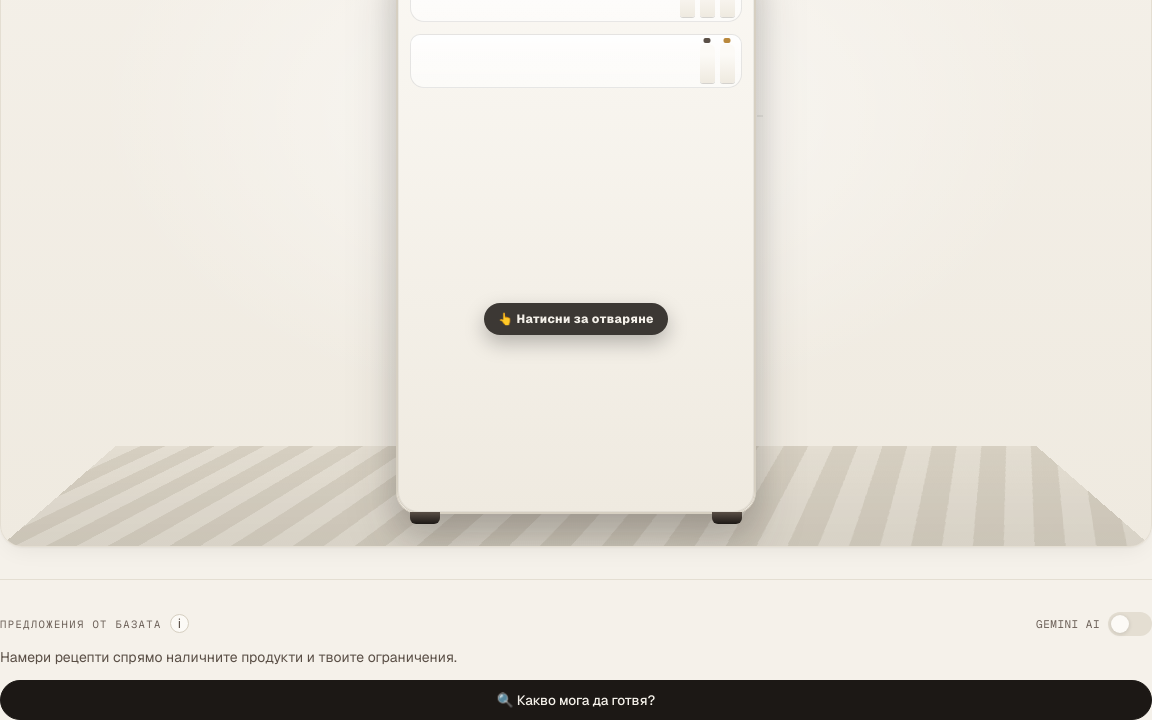
Test: FridgeScreen – Try different suggestions button › shows the button after Gemini search returns results
The image size is (1152, 720).
(page scrolled)
Click the checkbox at (1130, 624), box [1108, 612, 1151, 636]
(page scrolled)
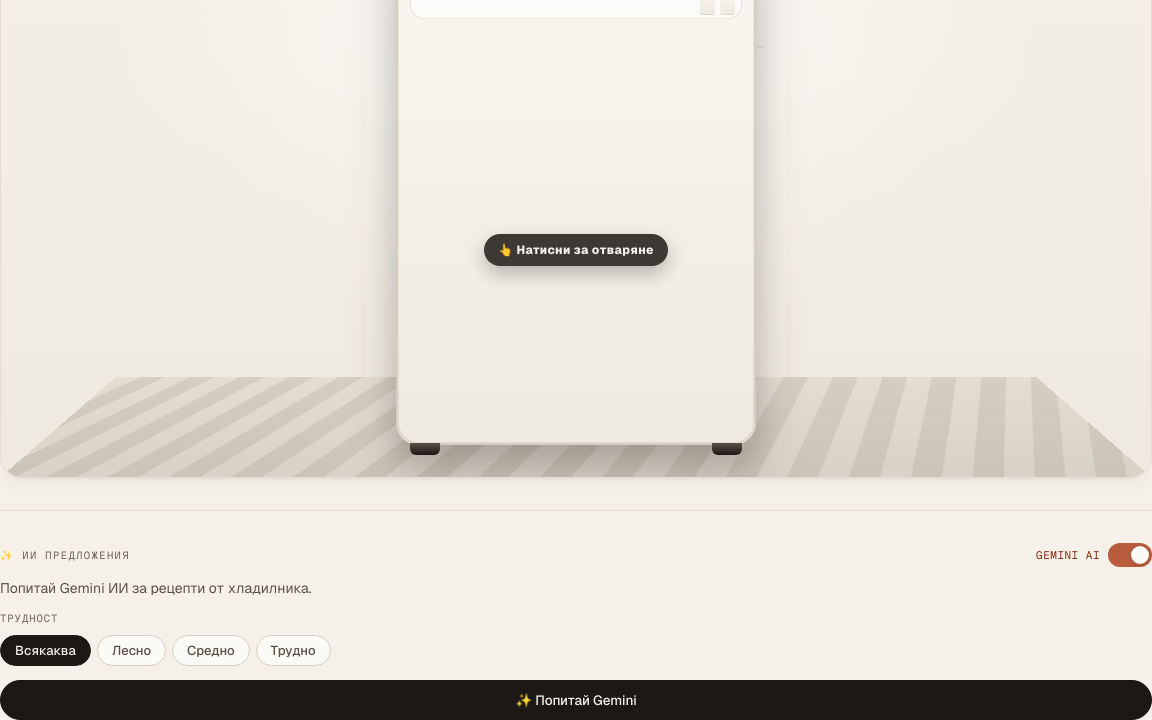
Click the button "✨ Попитай Gemini" at (576, 700), box [0, 680, 1151, 719]
(page scrolled)
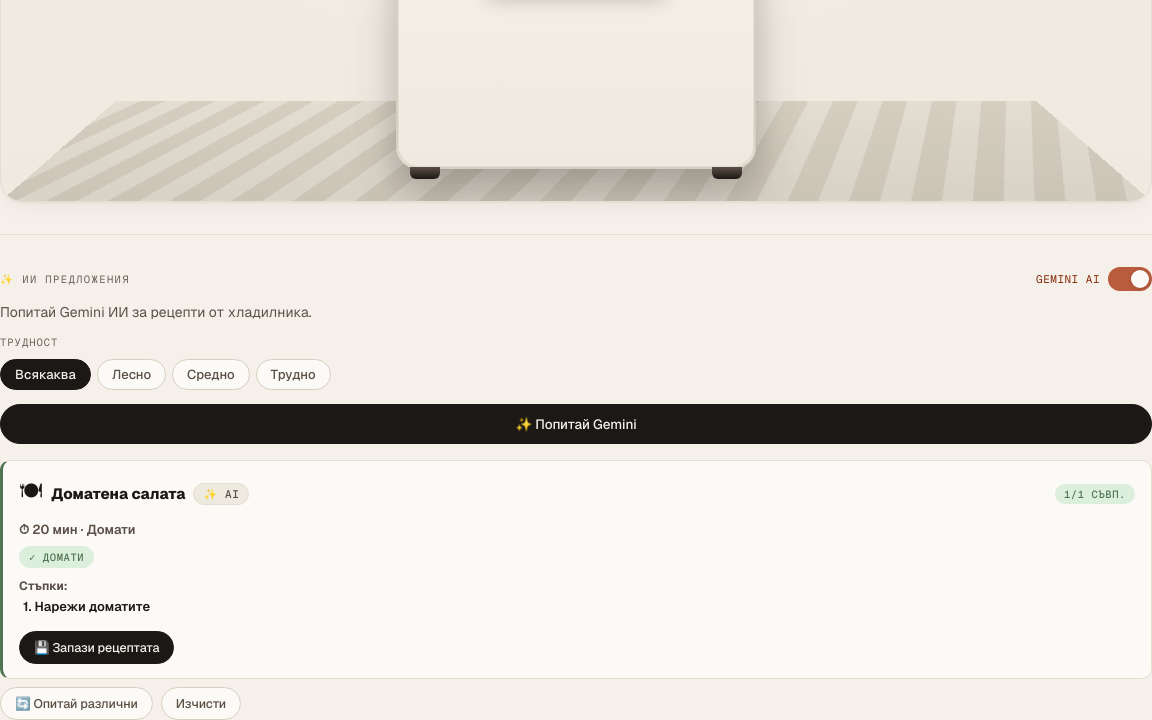
Check: the text "Доматена салата" is shown, box [51, 484, 185, 504]
Check: the button "🔄 Опитай различни" is shown, box [0, 687, 153, 719]
